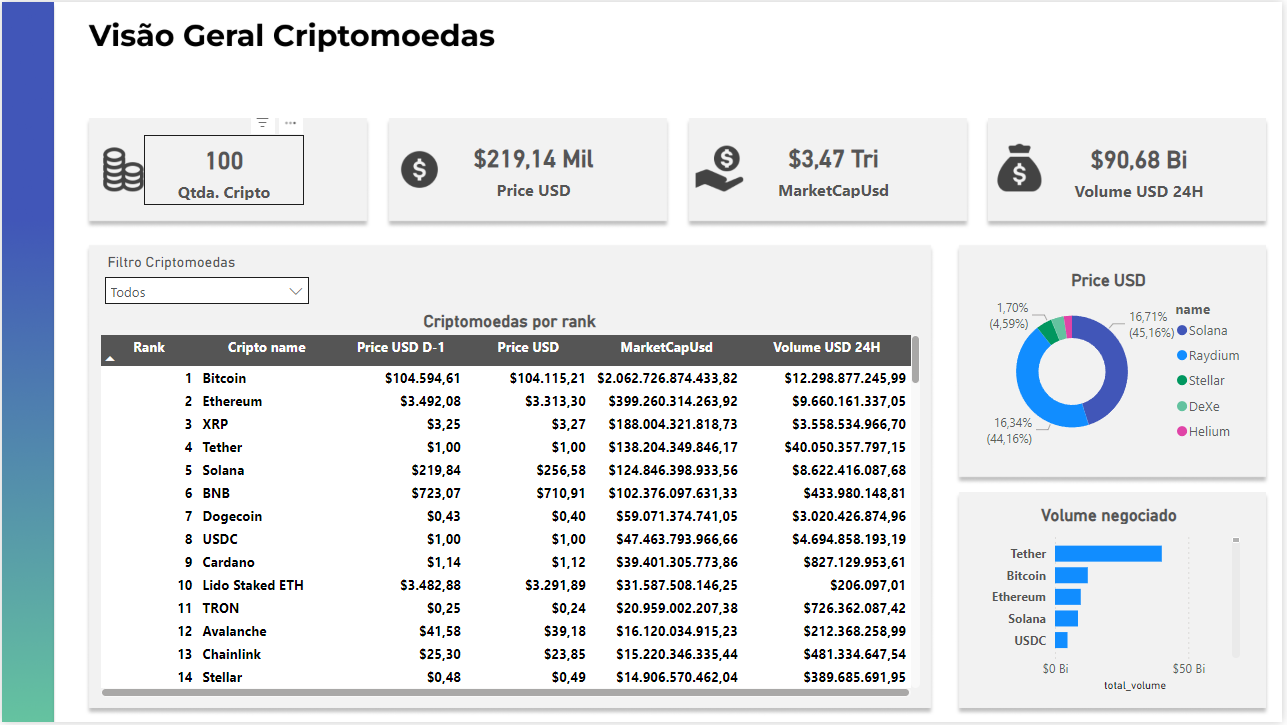

The dashboard page shown, as its layout file describes it:
{"tool":"powerbi","page":{"name":"Visão Geral mercado Criptos","canvas":[1280,720],"ordinal":0},"visuals":[{"type":"card","fields":{"Values":["campos_calculados.total_Ativos"]},"box":[86.4,105.7,159.3,70],"z":0},{"type":"slicer","fields":{"Values":["silver_assets.name"]},"box":[53.8,202.3,224.6,62.3],"z":1000},{"type":"tableEx","title":"Assets","fields":{"Values":["silver_assets.name","Sum(silver_assets.rank)","campos_calculados.total_assets_priceUsd","campos_calculados.total_assets_marketCapUsd","campos_calculados.total_assets_volumeUsd24Hr","campos_calculados.total_assets_chagePercent24Hr"]},"box":[67.1,297.1,726.4,385],"z":2000},{"type":"card","fields":{"Values":["campos_calculados.total_assets_volumeUsd24Hr"]},"box":[1017.9,104.3,144.3,70],"z":3000},{"type":"card","fields":{"Values":["campos_calculados.total_assets_marketCapUsd"]},"box":[722.1,104.3,120,69.3],"z":4000},{"type":"card","fields":{"Values":["campos_calculados.total_assets_priceUsd"]},"box":[400,102.9,150.7,72.9],"z":5000},{"type":"tableEx","title":"Price USD","fields":{"Values":["silver_assets.name","campos_calculados.total_assets_priceUsd"]},"box":[862.1,283.6,354.3,175.7],"z":6000},{"type":"tableEx","title":"Volume negociado","fields":{"Values":["silver_assets.name","Sum(silver_assets.volumeUsd24Hr)"]},"box":[862.1,509.3,354.3,190.7],"z":7000}]}

Visuals, with their boxes on the page's 1280x720 design canvas (x1, y1, x2, y2). These are canvas units, not pixel positions in the 1287x725 screenshot, which may show the page scaled, cropped or inside an application window:
card - campos_calculados.total_Ativos: {"left": 86, "top": 106, "right": 246, "bottom": 176}
slicer - silver_assets.name: {"left": 54, "top": 202, "right": 278, "bottom": 265}
"Assets" tableEx: {"left": 67, "top": 297, "right": 794, "bottom": 682}
card - campos_calculados.total_assets_volumeUsd24Hr: {"left": 1018, "top": 104, "right": 1162, "bottom": 174}
card - campos_calculados.total_assets_marketCapUsd: {"left": 722, "top": 104, "right": 842, "bottom": 174}
card - campos_calculados.total_assets_priceUsd: {"left": 400, "top": 103, "right": 551, "bottom": 176}
"Price USD" tableEx: {"left": 862, "top": 284, "right": 1216, "bottom": 459}
"Volume negociado" tableEx: {"left": 862, "top": 509, "right": 1216, "bottom": 700}
